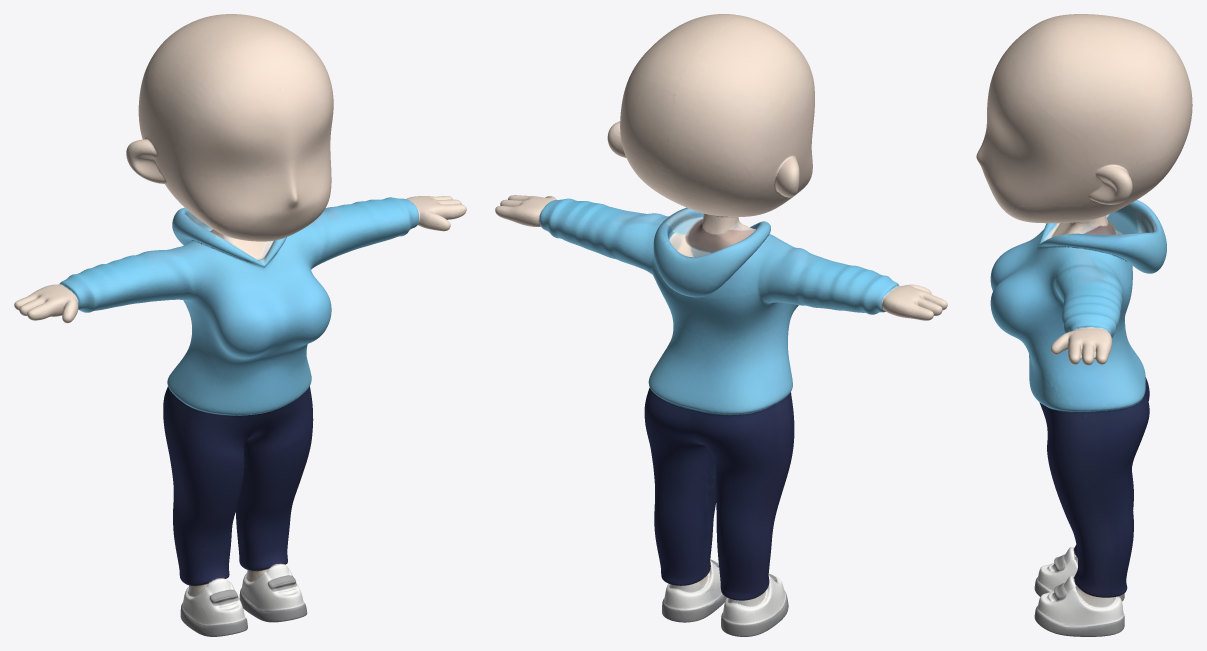
The model's file is baked_outfit_hoodie.glb.
3 renders of one model, left to right at view 1: azimuth 30°, elevation 25°; view 2: azimuth 150°, elevation 25°; view 3: azimuth 270°, elevation 25°, orthographic.
Bounding box in the file's own units: 1.49 × 1.9 × 0.6314.
1 material, 1 textured.
